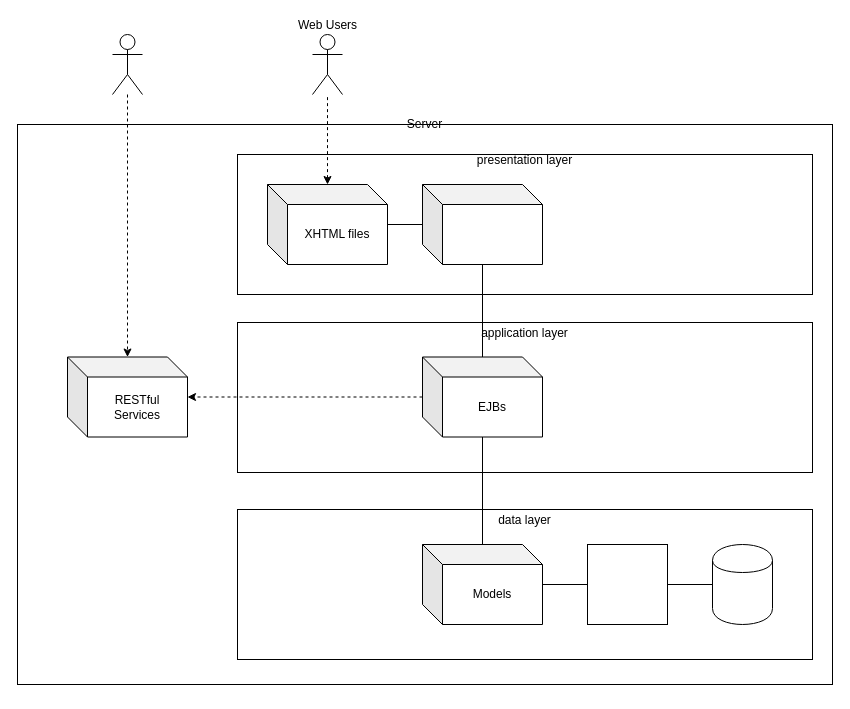
The diagram is 850 pixels wide and 709 high, and some of its shapes have lost their labels. The centre of each missing label's shape, as x and y in pixels:
API Clients: (127,64)
DB: (742,584)
JSFs: (482,224)
Persistence Manager: (627,584)
